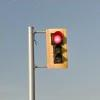Traffic light: (40, 12, 88, 72)
